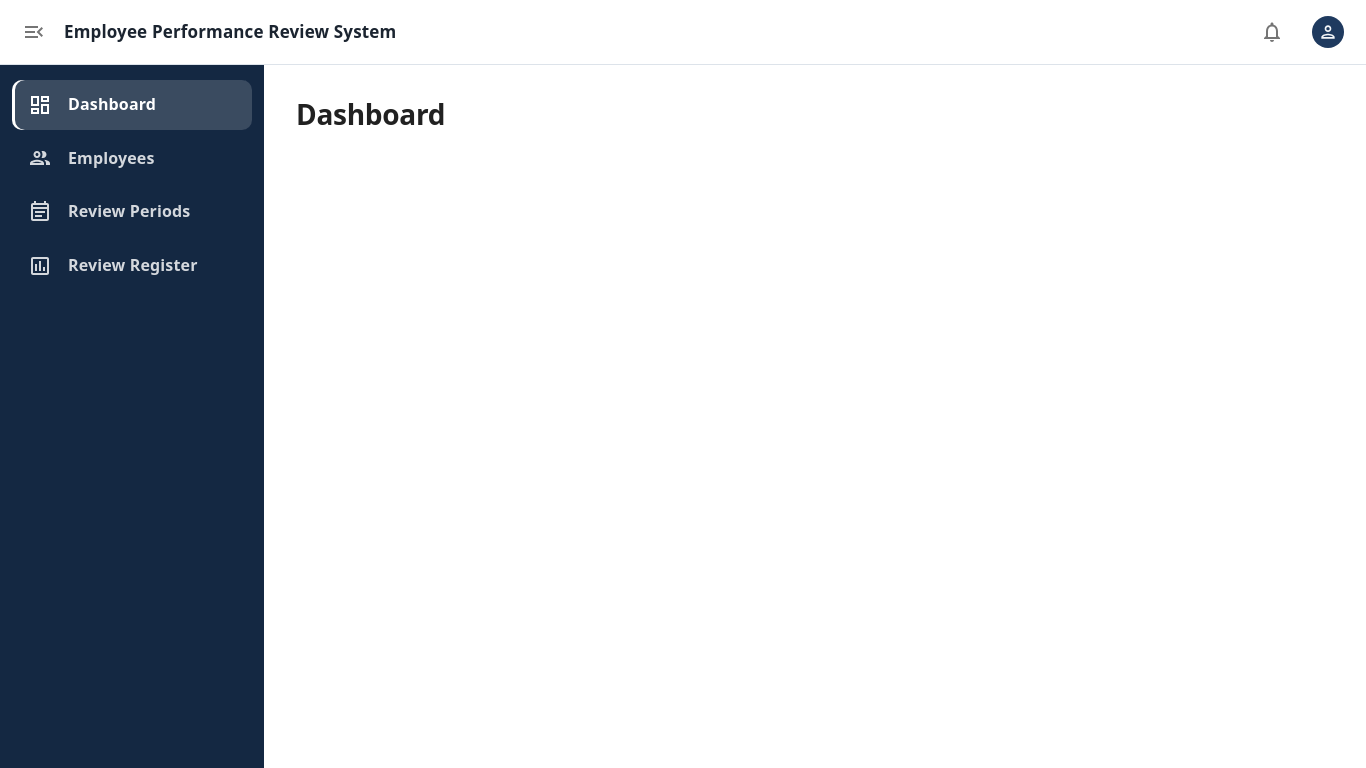
Scenario: AppShell on a wide screen › collapses to icons and expands again, keeping every link reachable by name
Step 1. Click the button named "Collapse sidebar" → (34, 32), box left=12, top=10, right=56, bottom=54
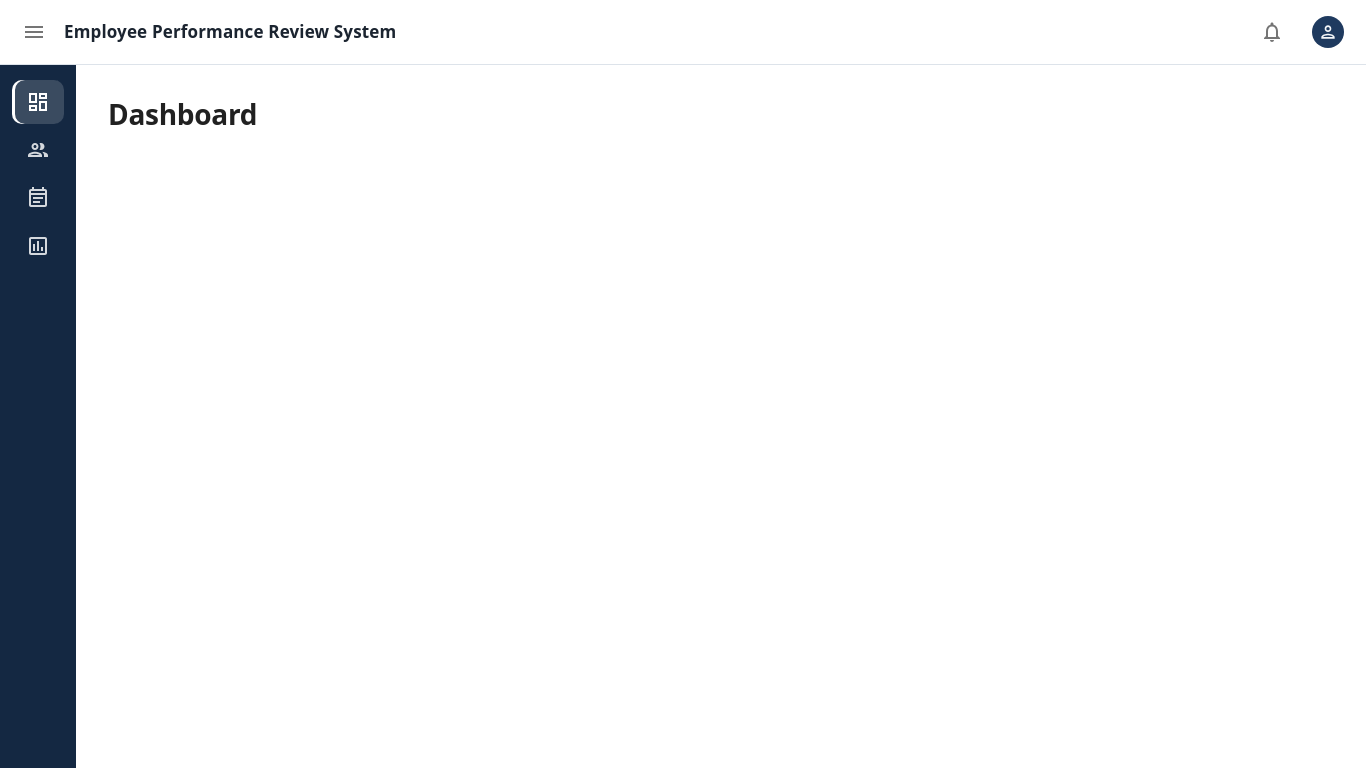
Expected: the link named "Review Periods" is shown, left=26, top=186, right=50, bottom=210
Now the text "Review Periods" is gone
Step 2. Click the button named "Expand sidebar" → (34, 32), box left=12, top=10, right=56, bottom=54
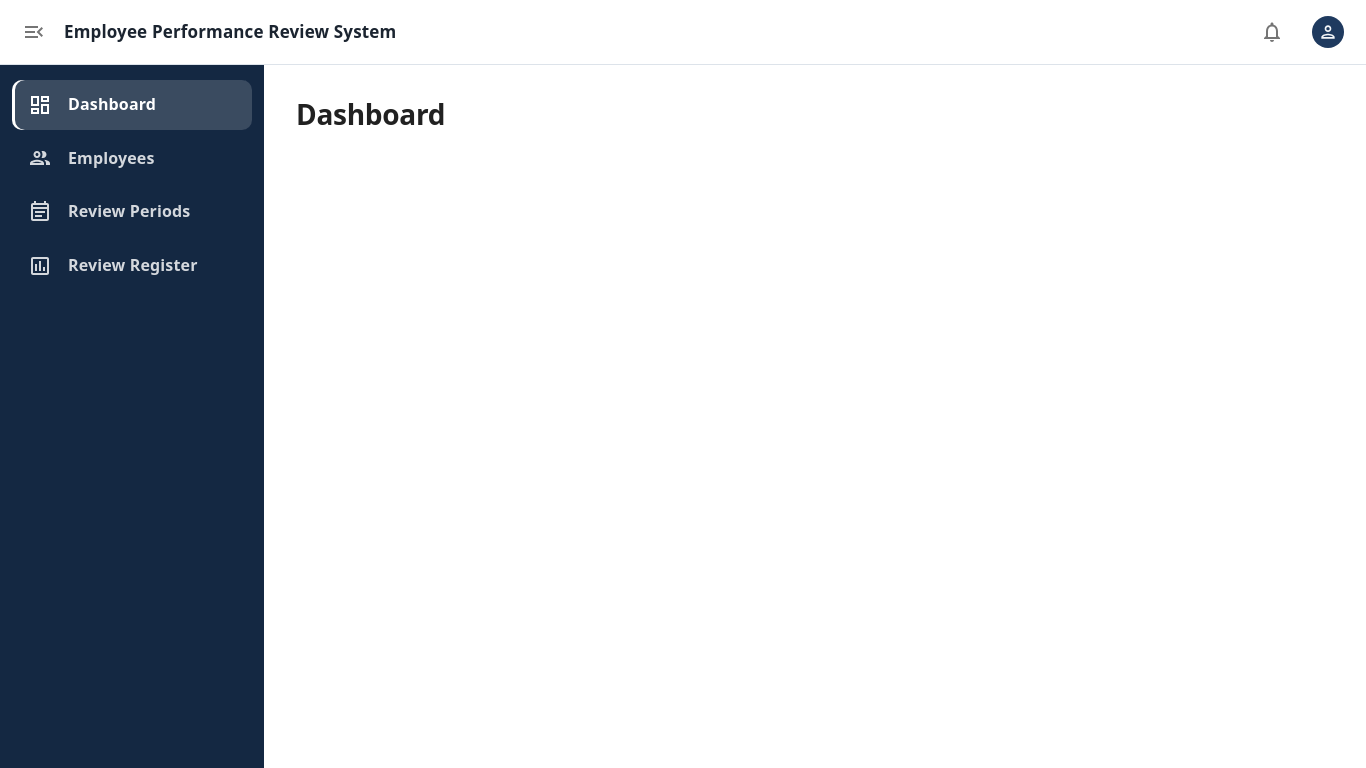
Now the text "Review Periods" is shown, box left=68, top=200, right=190, bottom=222
